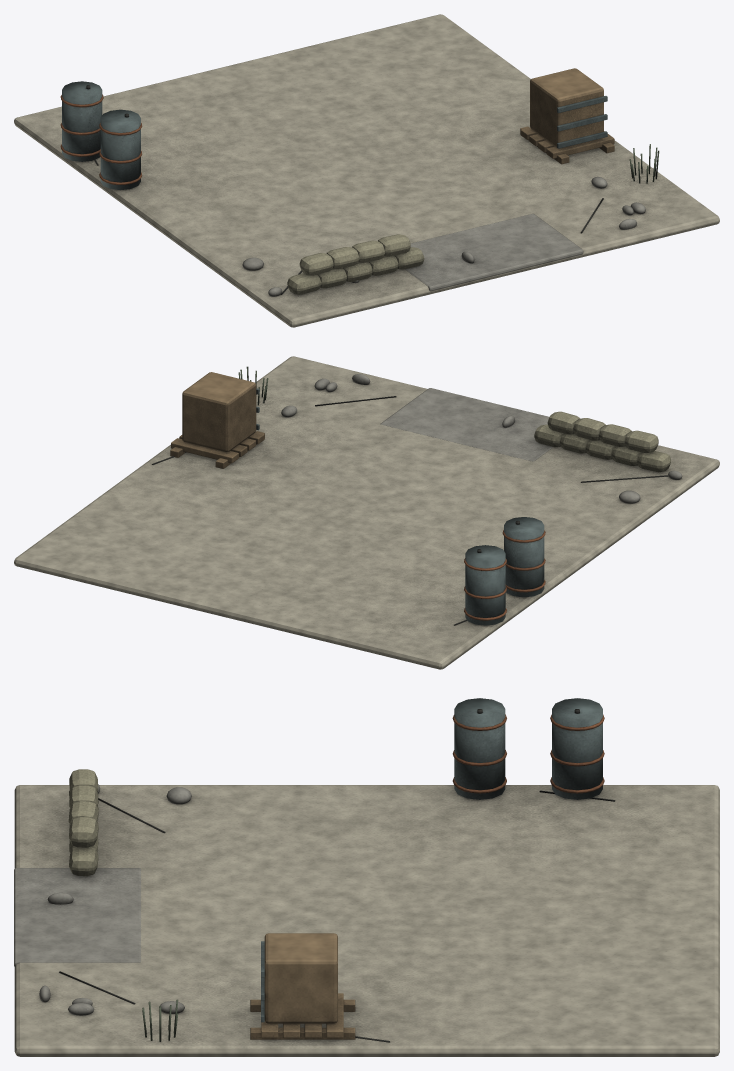
The model's file is HeadquartersSurroundings.fbx.
3 views of the same model, one above another, from view 1: azimuth 30°, elevation 25°; view 2: azimuth 150°, elevation 25°; view 3: azimuth 270°, elevation 25° (orthographic). The views are drawn at different scales.
Parts seen in each view (by area): view 1: HeadquartersSurroundings; view 2: HeadquartersSurroundings; view 3: HeadquartersSurroundings.
Part boxes in pixels (x1=…): HeadquartersSurroundings: x1=14, y1=14, x2=719, y2=327; HeadquartersSurroundings: x1=14, y1=356, x2=719, y2=669; HeadquartersSurroundings: x1=14, y1=698, x2=719, y2=1056.
Bounding box in the file's own units: 4.23 × 0.705 × 4.7.
1 material, 1 textured.
